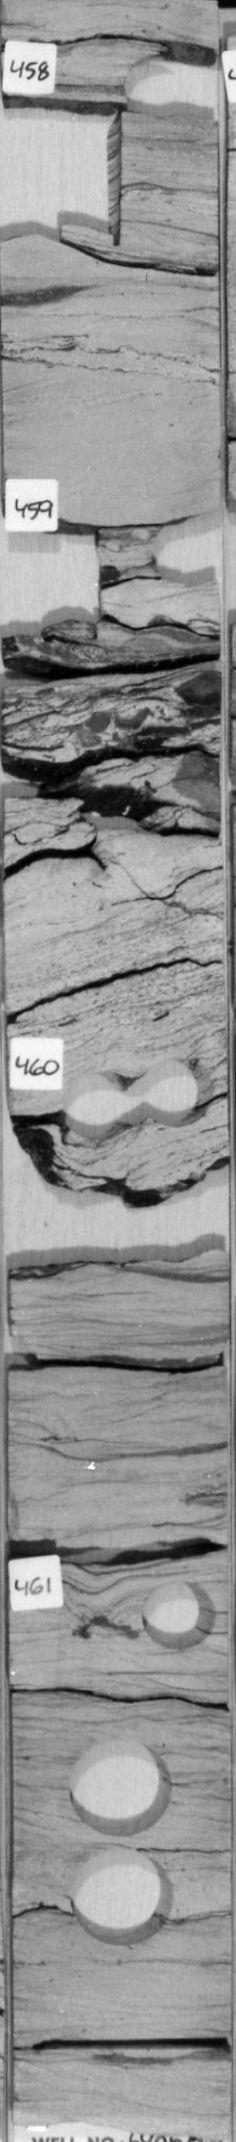hplug: (136, 1574, 218, 1654), (115, 40, 190, 127), (136, 514, 214, 594), (138, 1055, 211, 1132), (61, 1068, 134, 1147)
scal: (63, 1732, 175, 1841), (63, 1846, 183, 1945)
vplug: (50, 82, 127, 260), (31, 516, 112, 648)
